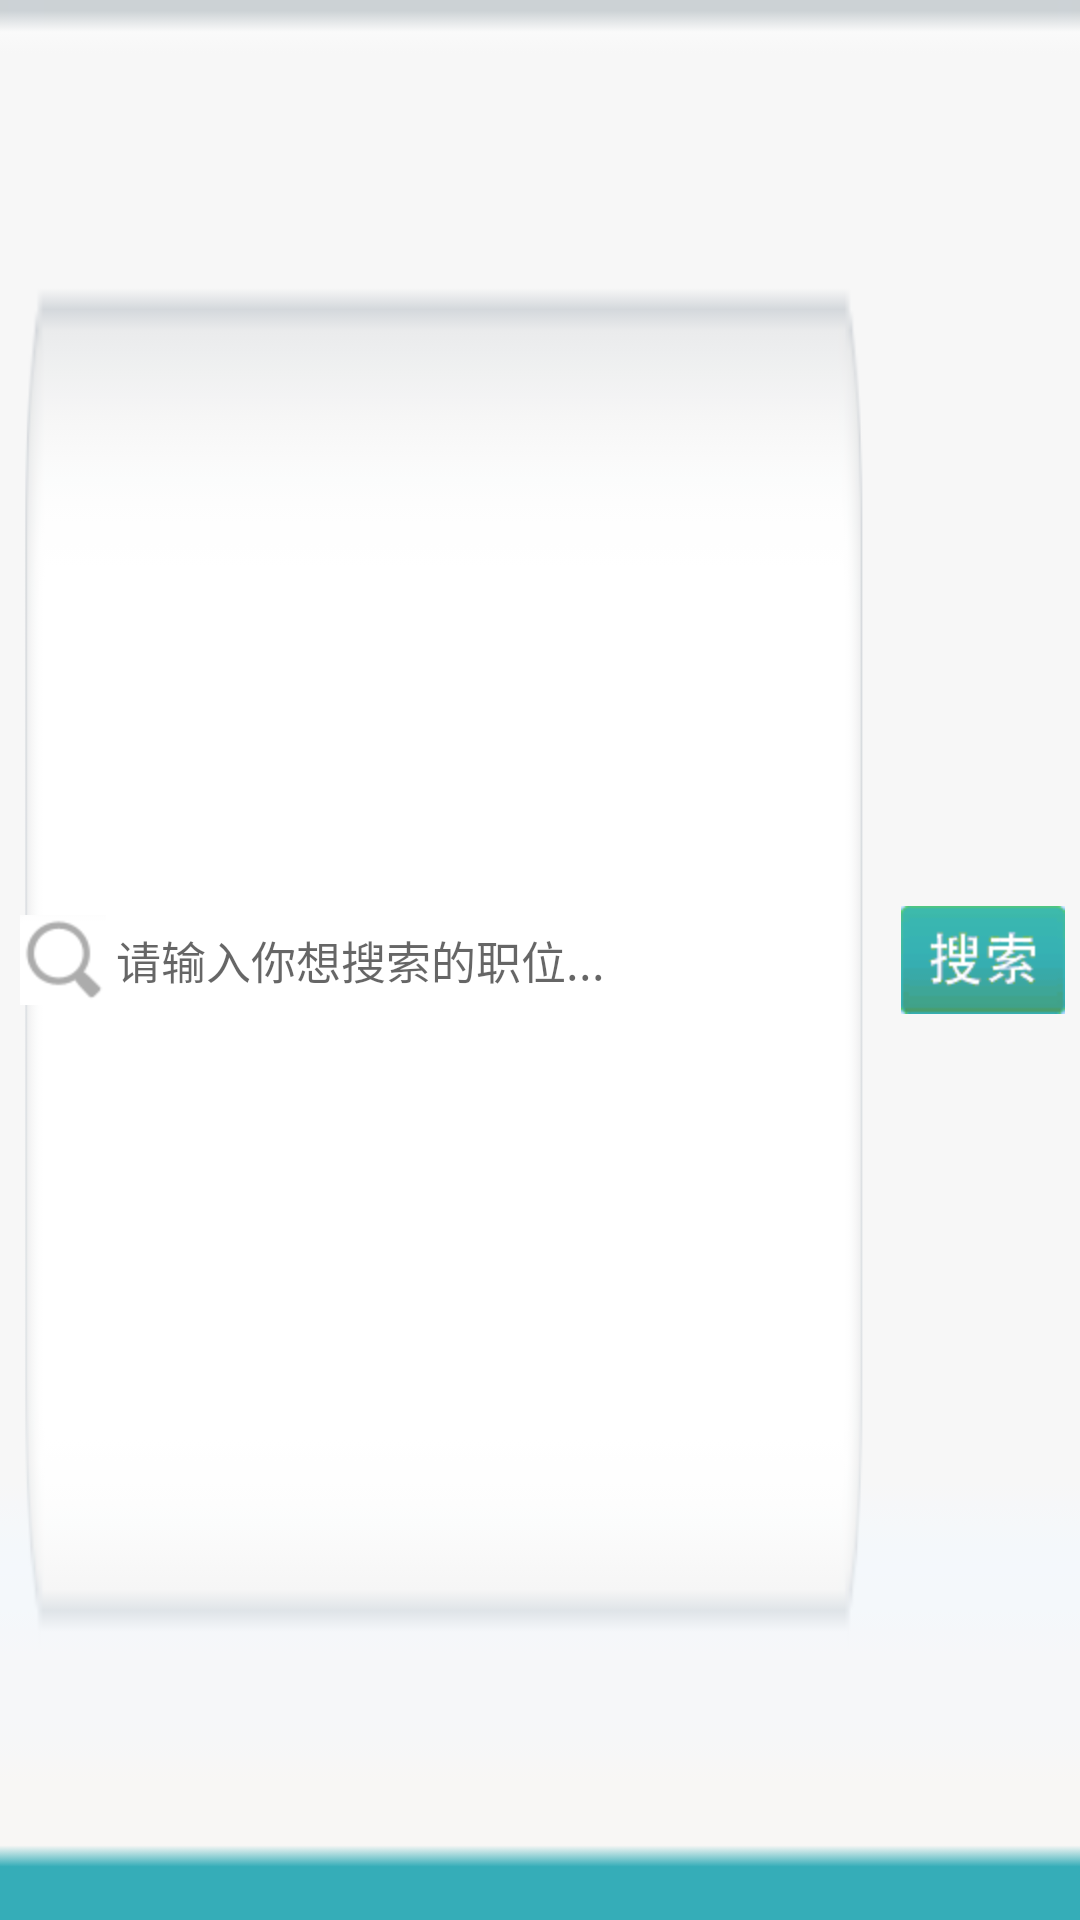

Locate icon controls on the screen. Image size 1080w x 1920h, boxes as (x1, y1, x2, y2).
search text: (26, 921, 101, 998)
